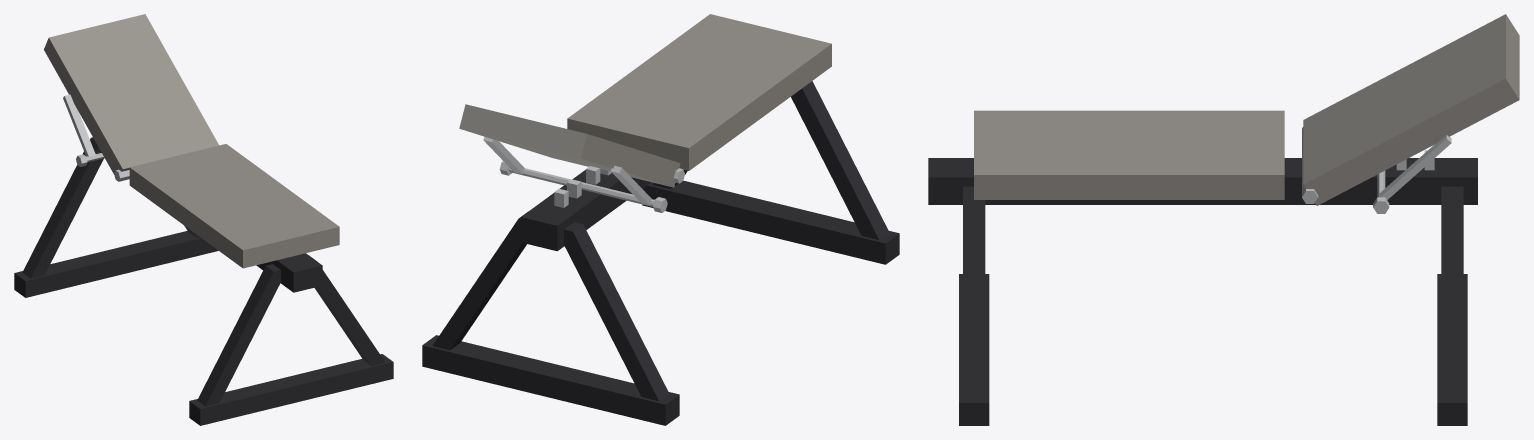
File: FN_Bench_Gym.obj
3 renders of one model, left to right at view 1: azimuth 30°, elevation 25°; view 2: azimuth 150°, elevation 25°; view 3: azimuth 270°, elevation 25°, orthographic. The views are drawn at different scales.
Visible parts, largest first — view 1: FN_Bench_Gym; view 2: FN_Bench_Gym; view 3: FN_Bench_Gym.
Part boxes in pixels (x1,y1,x2,y2): FN_Bench_Gym: [14, 14, 393, 425]; FN_Bench_Gym: [422, 14, 899, 425]; FN_Bench_Gym: [928, 14, 1519, 425].
Bounding box in the file's own units: 0.6 × 0.6834 × 1.16.
1 material, 1 textured.
